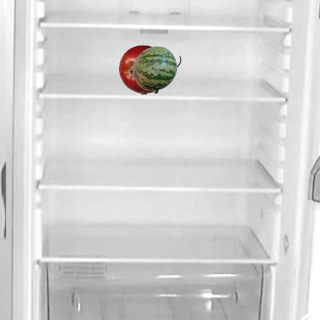Apple Braeburn: (118, 44, 168, 94)
Watermelon: (131, 44, 181, 94)
